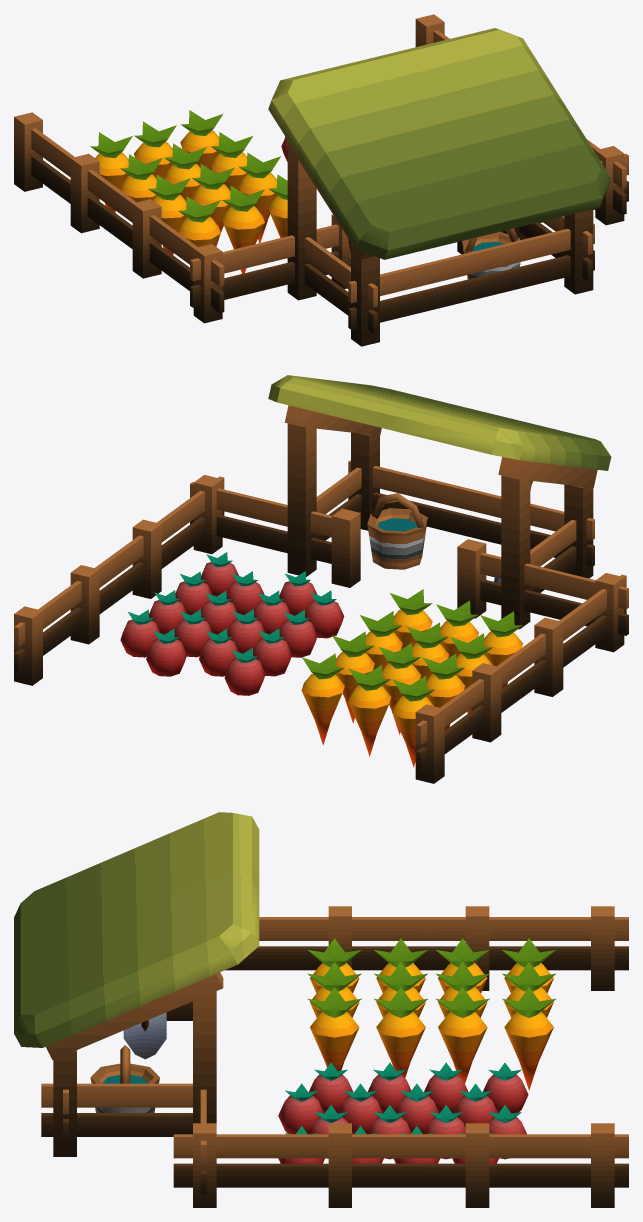
Rendered from farm_lvl1.fbx.
3 renders of one model, top to bottom at view 1: azimuth 30°, elevation 25°; view 2: azimuth 150°, elevation 25°; view 3: azimuth 270°, elevation 25°, orthographic. The views are drawn at different scales.
Parts seen in each view (by area): view 1: farm_lvl1; view 2: farm_lvl1; view 3: farm_lvl1.
Boxes of the visible parts, x1,y1,x2,y2 form: farm_lvl1: (14,14,628,346); farm_lvl1: (14,375,628,783); farm_lvl1: (14,812,628,1207).
Size of the model in its own units: 1186 by 600 by 1308.
